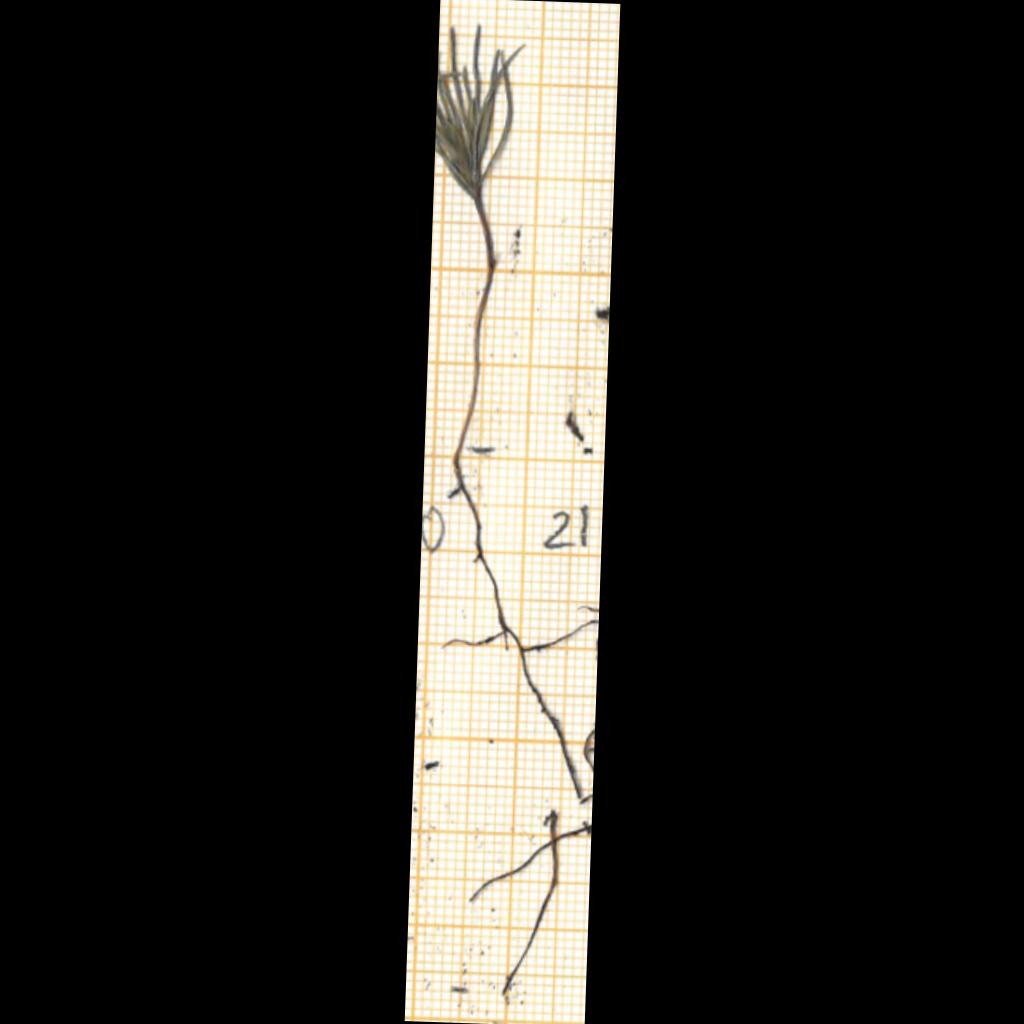flowerPinus: (435, 26, 519, 199)
rootPinus: (447, 459, 586, 803)
stemPinus: (454, 193, 495, 464)
